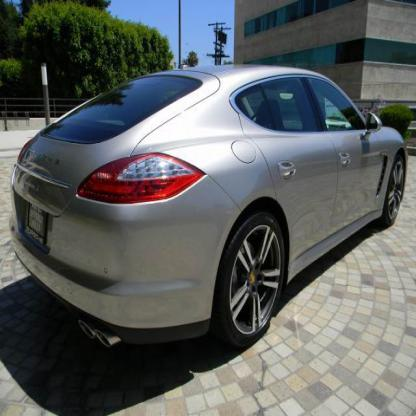Vehicle: (13, 60, 409, 348)
